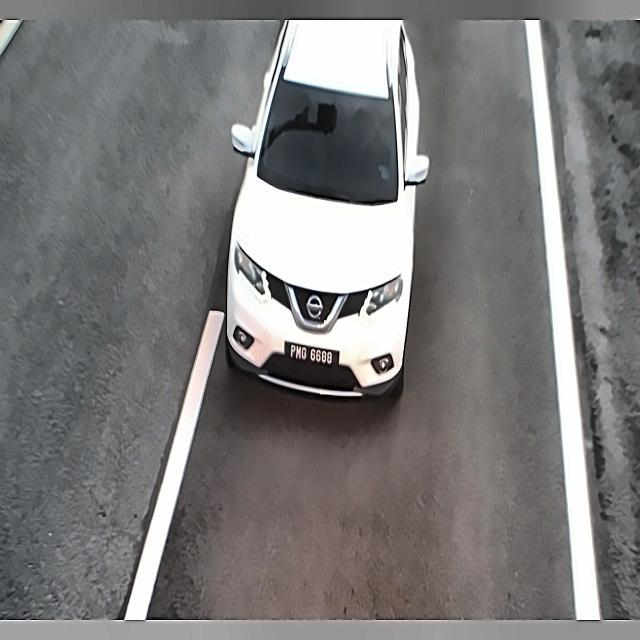car: (279, 331, 336, 379)
